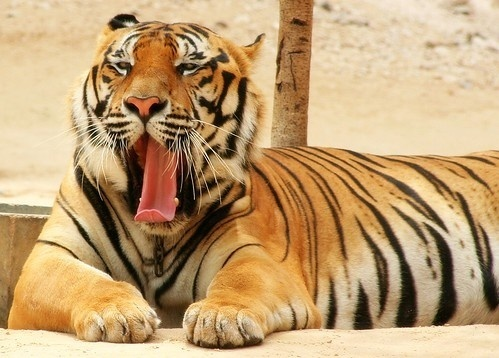tigre: (5, 10, 499, 350)
